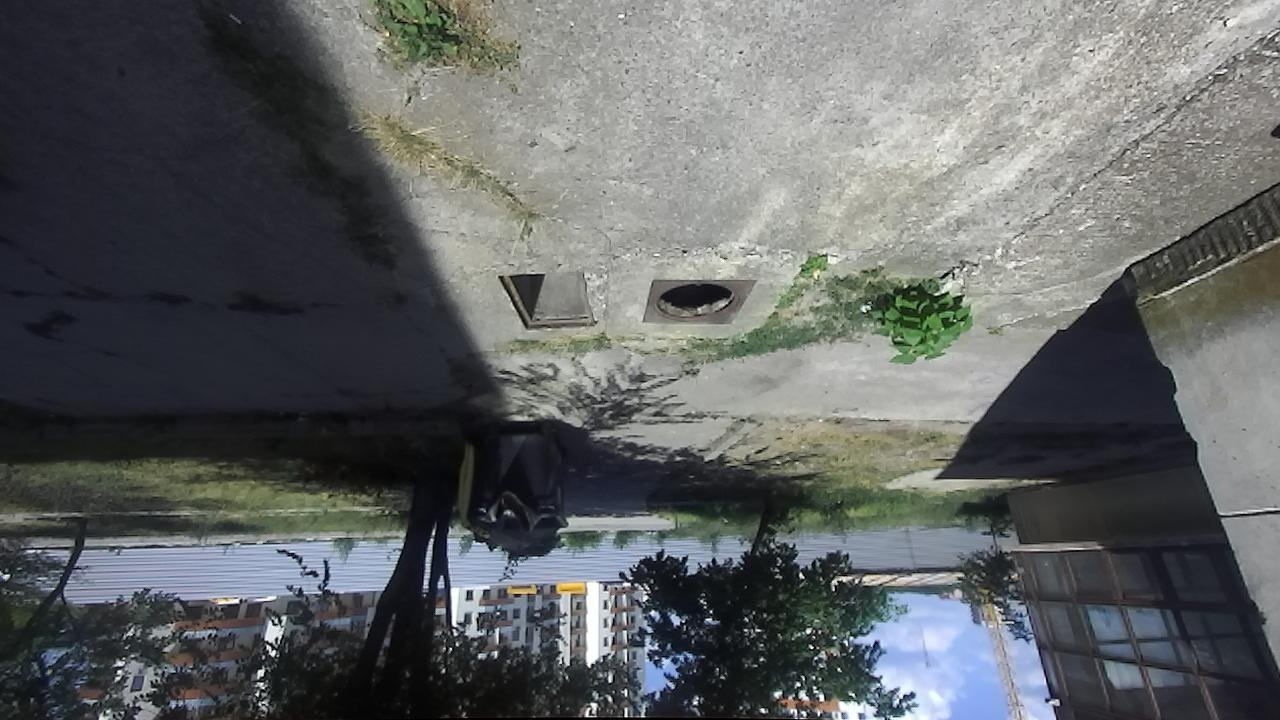drain: (493, 271, 602, 333), (652, 283, 741, 323)
